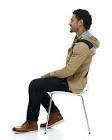good-pose: (0, 0, 112, 140)
